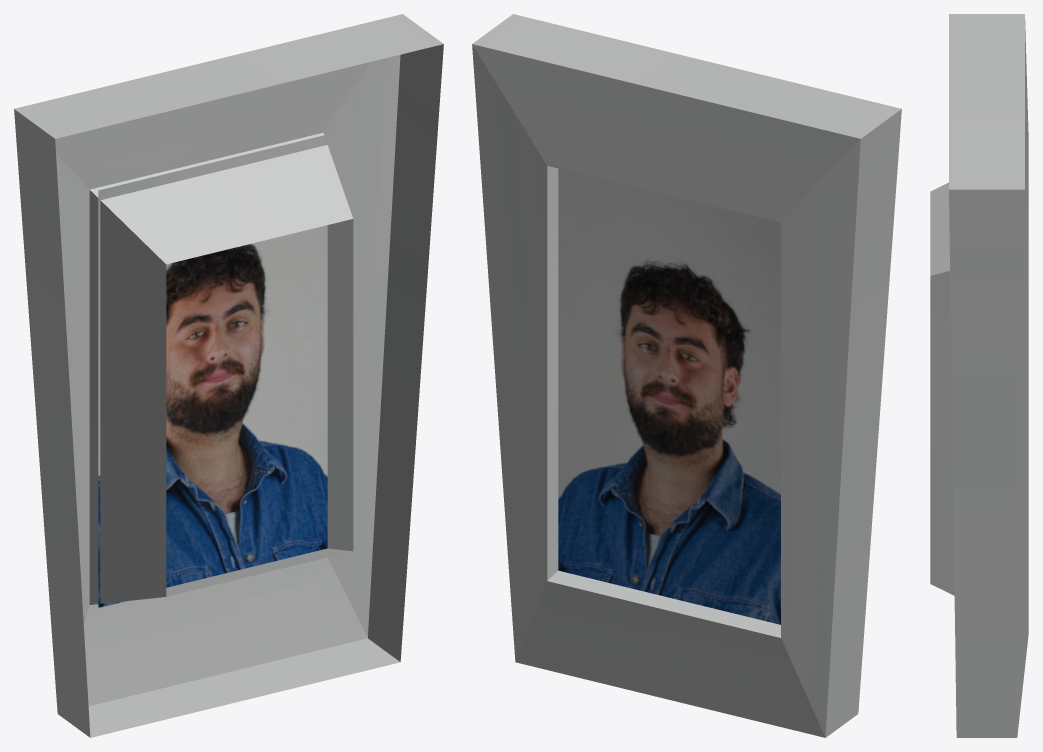
3 renders of one model, left to right at view 1: azimuth 30°, elevation 25°; view 2: azimuth 150°, elevation 25°; view 3: azimuth 270°, elevation 25°, orthographic. The views are drawn at different scales.
Visible parts, largest first — view 1: SM_Painting1.001; view 2: SM_Painting1.001; view 3: SM_Painting1.001.
Part boxes in pixels (x1=…): SM_Painting1.001: x1=14, y1=14, x2=443, y2=737; SM_Painting1.001: x1=472, y1=14, x2=901, y2=737; SM_Painting1.001: x1=930, y1=14, x2=1028, y2=737.
Size of the model in its own units: 23.98 by 101 by 152.
